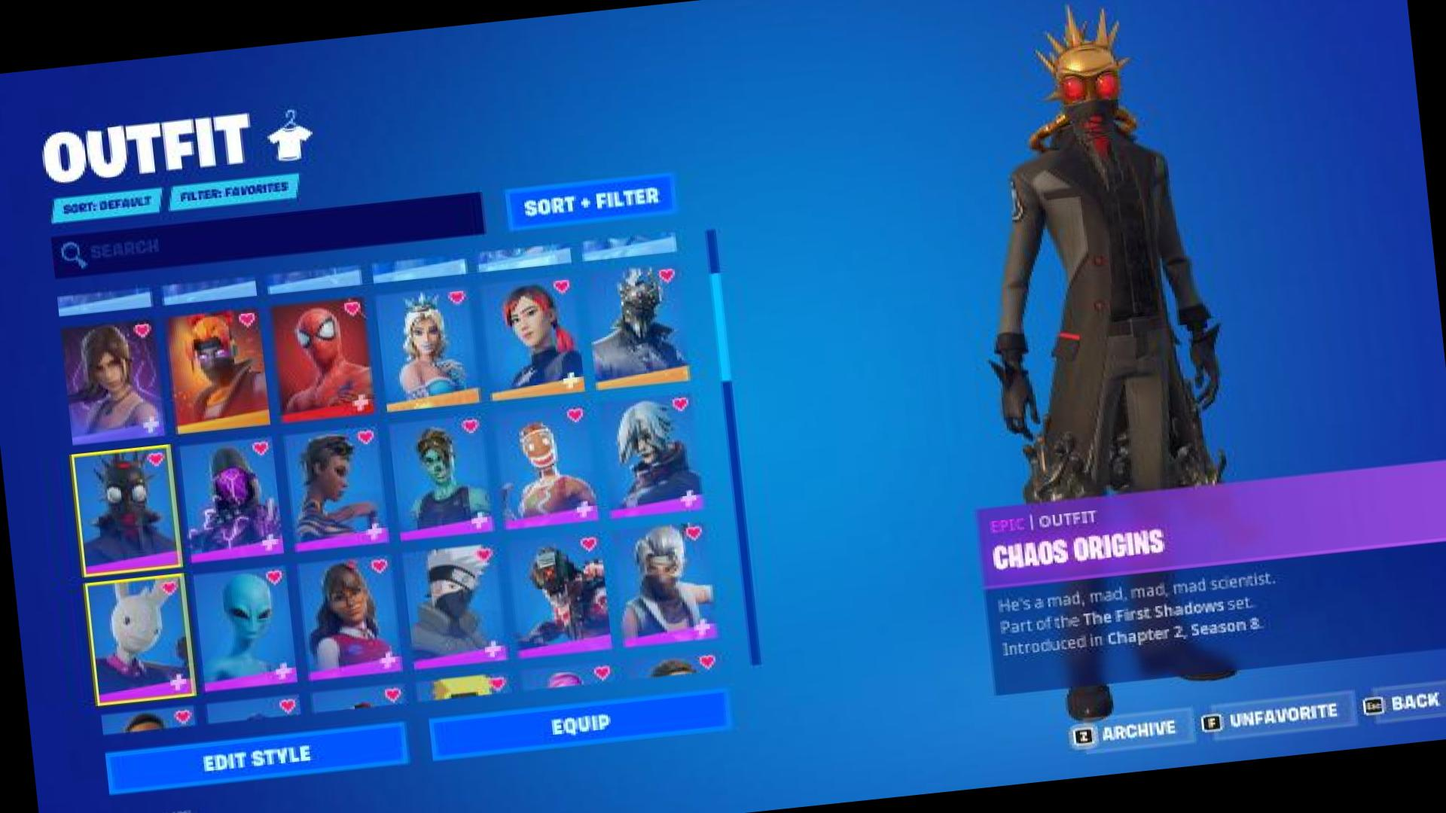player: (925, 0, 1353, 734)
